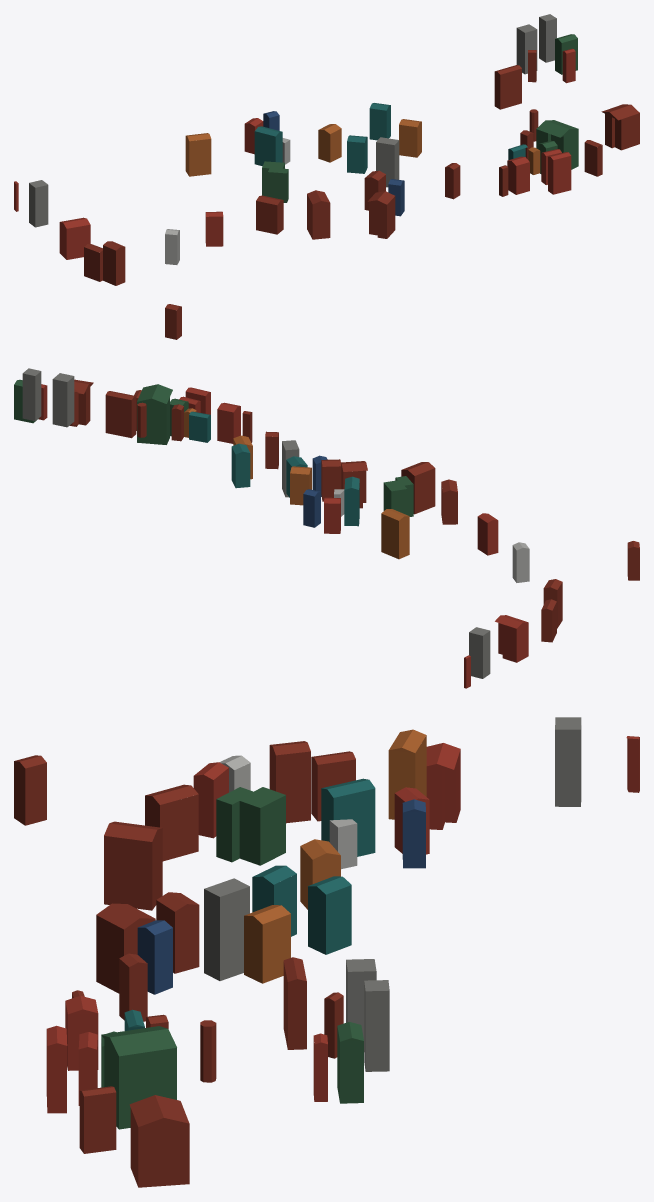
File: near-17-109449-59472.3cc73710.glb
3 renders of one model, top to bottom at view 1: azimuth 30°, elevation 25°; view 2: azimuth 150°, elevation 25°; view 3: azimuth 270°, elevation 25°, orthographic. The views are drawn at different scales.
Size of the model in its own units: 301 by 80.79 by 168.
